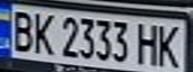2: (54, 12, 81, 60)
3: (109, 18, 136, 64), (93, 17, 115, 62), (75, 15, 96, 61)
B: (6, 8, 36, 53)
H: (133, 20, 163, 66)
K: (154, 21, 187, 69), (27, 10, 57, 55)
